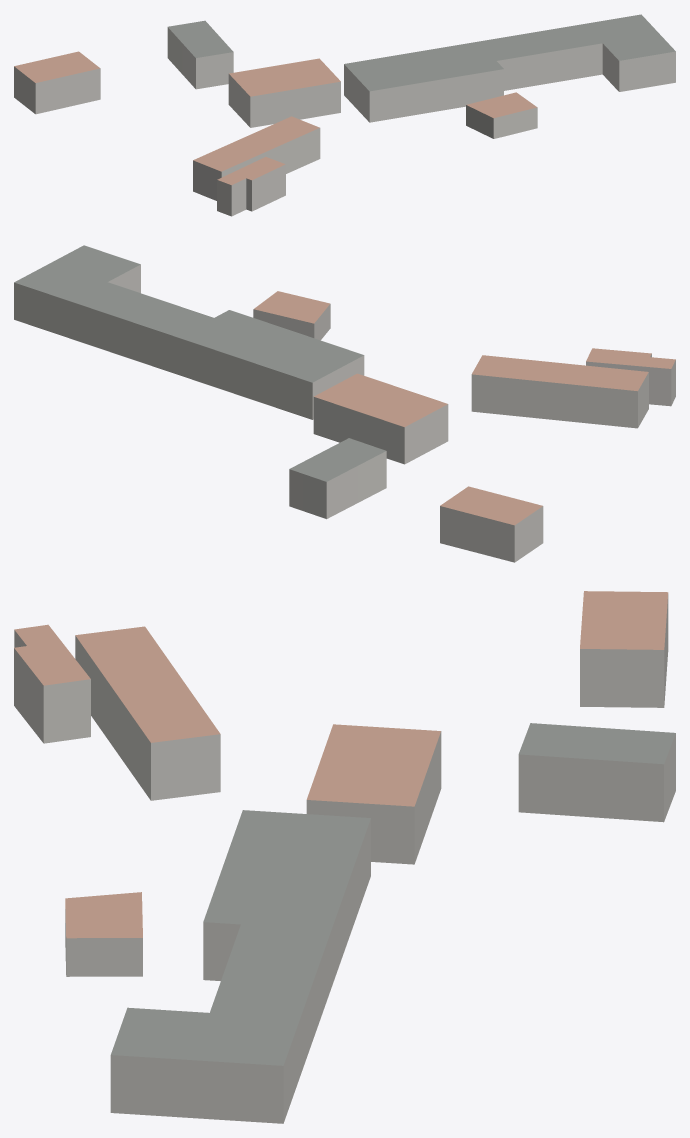
The model's file is gridID_103.dae.
3 views of the same model, one above another, from view 1: azimuth 30°, elevation 25°; view 2: azimuth 150°, elevation 25°; view 3: azimuth 270°, elevation 25° (orthographic). The views are drawn at different scales.
Parts seen in each view (by area): view 1: model_gridID_103_w376043969, model_gridID_103_w376043959, model_gridID_103_w376043956, model_gridID_103_r6179405, model_gridID_103_w380978817_001, model_gridID_103_w376043965, model_gridID_103_w376043969_002; view 2: model_gridID_103_w376043969, model_gridID_103_w376043956, model_gridID_103_w376043959, model_gridID_103_r6179405, model_gridID_103_w380978817_001, model_gridID_103_w376043969_002, model_gridID_103_w376043965; view 3: model_gridID_103_w376043969, model_gridID_103_w376043956, model_gridID_103_w380978817_001, model_gridID_103_w376043959, model_gridID_103_r6179405, model_gridID_103_w376043965, model_gridID_103_w376043969_002.
Part boxes in pixels (x1=…): model_gridID_103_w376043969: x1=344, y1=14, x2=675, y2=122; model_gridID_103_w376043959: x1=228, y1=58, x2=340, y2=127; model_gridID_103_w376043956: x1=193, y1=116, x2=320, y2=200; model_gridID_103_r6179405: x1=14, y1=51, x2=100, y2=114; model_gridID_103_w380978817_001: x1=167, y1=20, x2=233, y2=89; model_gridID_103_w376043965: x1=217, y1=157, x2=285, y2=216; model_gridID_103_w376043969_002: x1=466, y1=92, x2=537, y2=138; model_gridID_103_w376043969: x1=14, y1=245, x2=364, y2=419; model_gridID_103_w376043956: x1=471, y1=355, x2=648, y2=428; model_gridID_103_w376043959: x1=313, y1=373, x2=448, y2=464; model_gridID_103_r6179405: x1=440, y1=486, x2=543, y2=562; model_gridID_103_w380978817_001: x1=289, y1=438, x2=386, y2=519; model_gridID_103_w376043969_002: x1=253, y1=291, x2=330, y2=340; model_gridID_103_w376043965: x1=586, y1=348, x2=675, y2=406; model_gridID_103_w376043969: x1=110, y1=810, x2=370, y2=1123; model_gridID_103_w376043956: x1=75, y1=626, x2=220, y2=800; model_gridID_103_w380978817_001: x1=518, y1=723, x2=675, y2=822; model_gridID_103_w376043959: x1=306, y1=724, x2=441, y2=864; model_gridID_103_r6179405: x1=580, y1=591, x2=668, y2=707; model_gridID_103_w376043965: x1=14, y1=624, x2=90, y2=743; model_gridID_103_w376043969_002: x1=65, y1=892, x2=142, y2=976.
Bounding box in the file's own units: 132 × 77.65 × 7.5.
